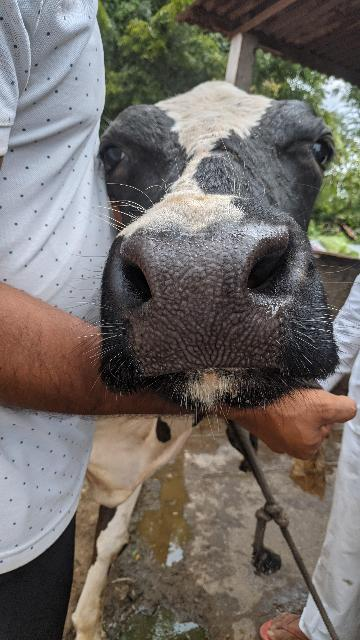Muzzle: (121, 235, 279, 363)
